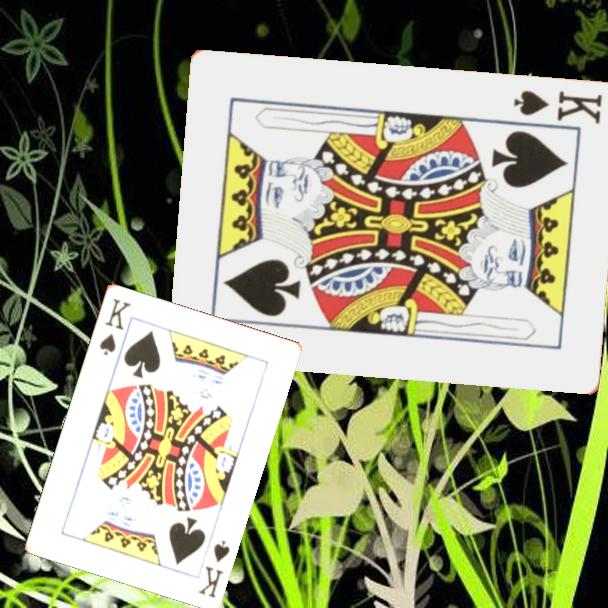s13: (511, 86, 606, 126), (194, 537, 233, 600), (96, 295, 134, 358)
